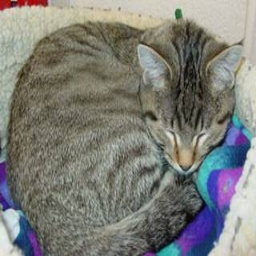cat: (9, 14, 239, 256)
